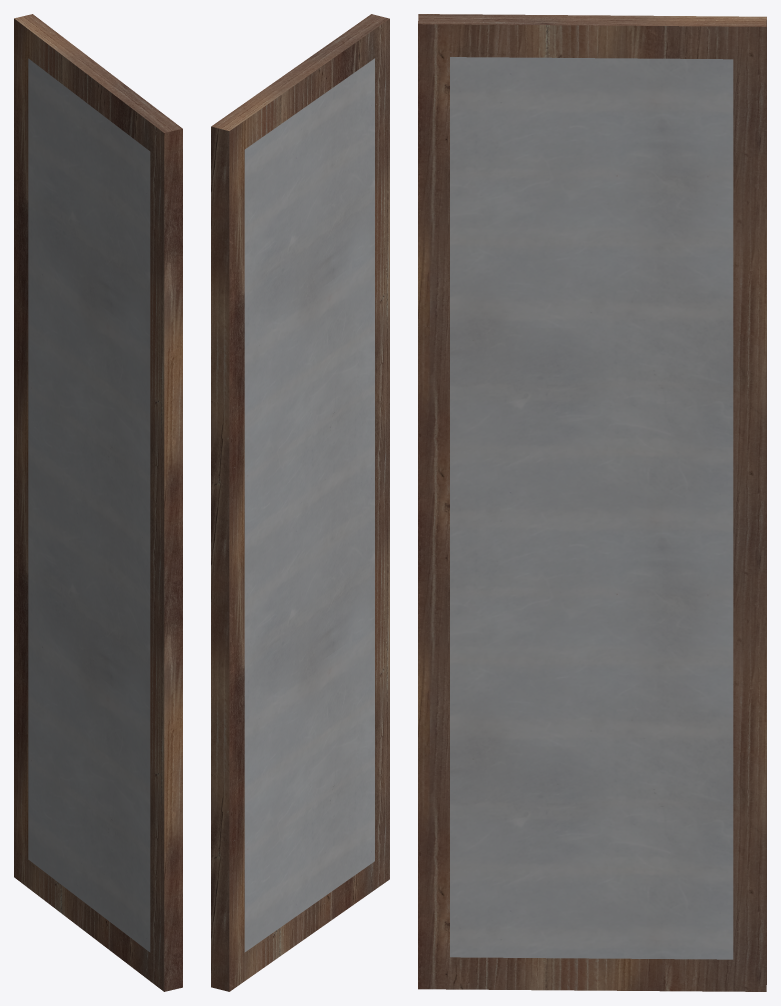
Rendered from SM_D_intdoor.fbx.
3 views of the same model, side by side, from view 1: azimuth 30°, elevation 25°; view 2: azimuth 150°, elevation 25°; view 3: azimuth 270°, elevation 25° (orthographic). The views are drawn at different scales.
Parts seen in each view (by area): view 1: SM_D_intdoor; view 2: SM_D_intdoor; view 3: SM_D_intdoor.
Boxes of the visible parts, x1,y1,x2,y2 form: SM_D_intdoor: (14,14,182,991); SM_D_intdoor: (211,14,389,991); SM_D_intdoor: (418,14,766,991).
Bounding box in the file's own units: 6.6 × 75.77 × 231.
Materials: 2 (2 with a texture image).
